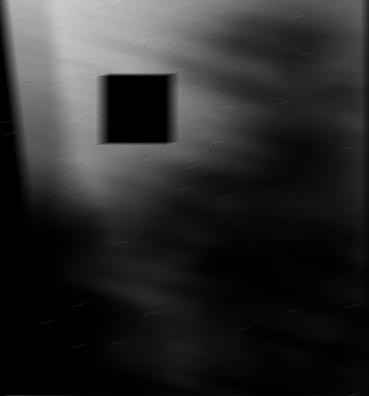Airbag: (1, 0, 369, 396)
